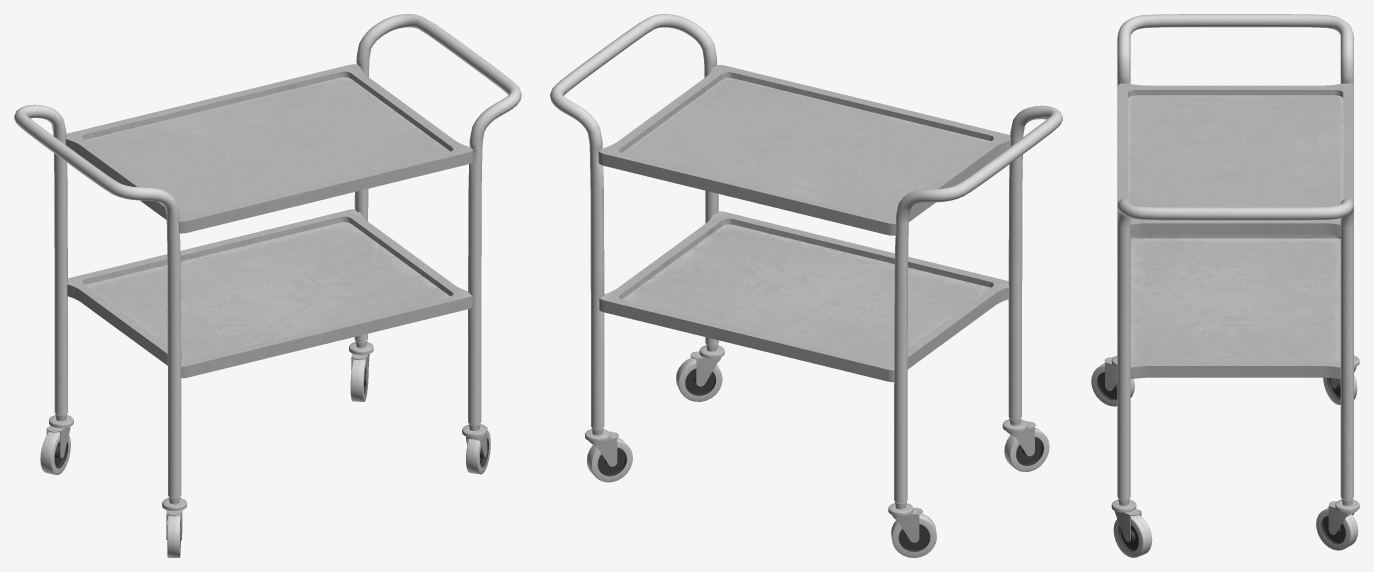
Rendered from Hospital Trolley.glb.
3 renders of one model, left to right at view 1: azimuth 30°, elevation 25°; view 2: azimuth 150°, elevation 25°; view 3: azimuth 270°, elevation 25°, orthographic. The views are drawn at different scales.
Visible parts, largest first — view 1: Trolley_Trolley_0; view 2: Trolley_Trolley_0; view 3: Trolley_Trolley_0.
Boxes of the visible parts, x1,y1,x2,y2 form: Trolley_Trolley_0: [14, 14, 521, 557]; Trolley_Trolley_0: [550, 14, 1062, 557]; Trolley_Trolley_0: [1091, 14, 1359, 557].
Bounding box in the file's own units: 1.06 × 0.9138 × 0.6045.
1 material, 1 textured.
